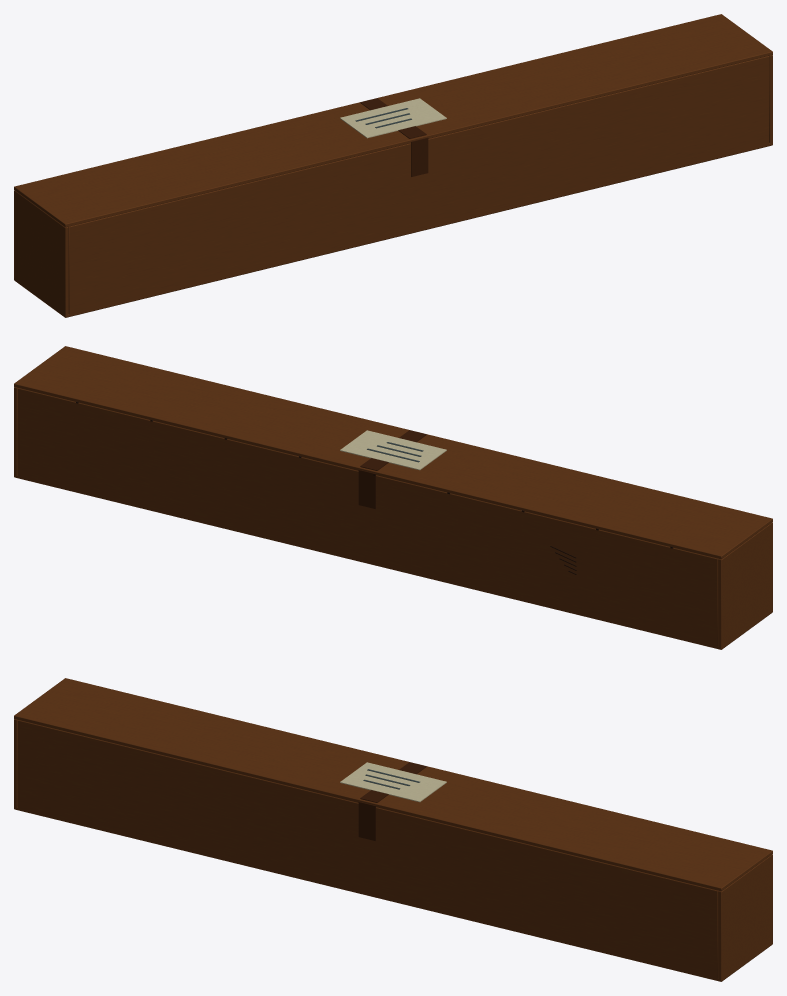
File: DeliveryBoxLong.fbx
3 renders of one model, top to bottom at view 1: azimuth 30°, elevation 25°; view 2: azimuth 150°, elevation 25°; view 3: azimuth 330°, elevation 25°, orthographic.
Parts seen in each view (by area): view 1: DeliveryBoxLong__Body, DeliveryBoxLong__Lid; view 2: DeliveryBoxLong__Body, DeliveryBoxLong__Lid; view 3: DeliveryBoxLong__Body, DeliveryBoxLong__Lid.
Part boxes in pixels (bbox=[...]): DeliveryBoxLong__Body: bbox=[14, 55, 772, 317]; DeliveryBoxLong__Lid: bbox=[14, 14, 772, 227]; DeliveryBoxLong__Body: bbox=[14, 387, 772, 649]; DeliveryBoxLong__Lid: bbox=[14, 346, 772, 559]; DeliveryBoxLong__Body: bbox=[14, 719, 772, 981]; DeliveryBoxLong__Lid: bbox=[14, 678, 772, 891].
Bounding box in the file's own units: 174 × 22.4 × 22.4.
1 material, 1 textured.
